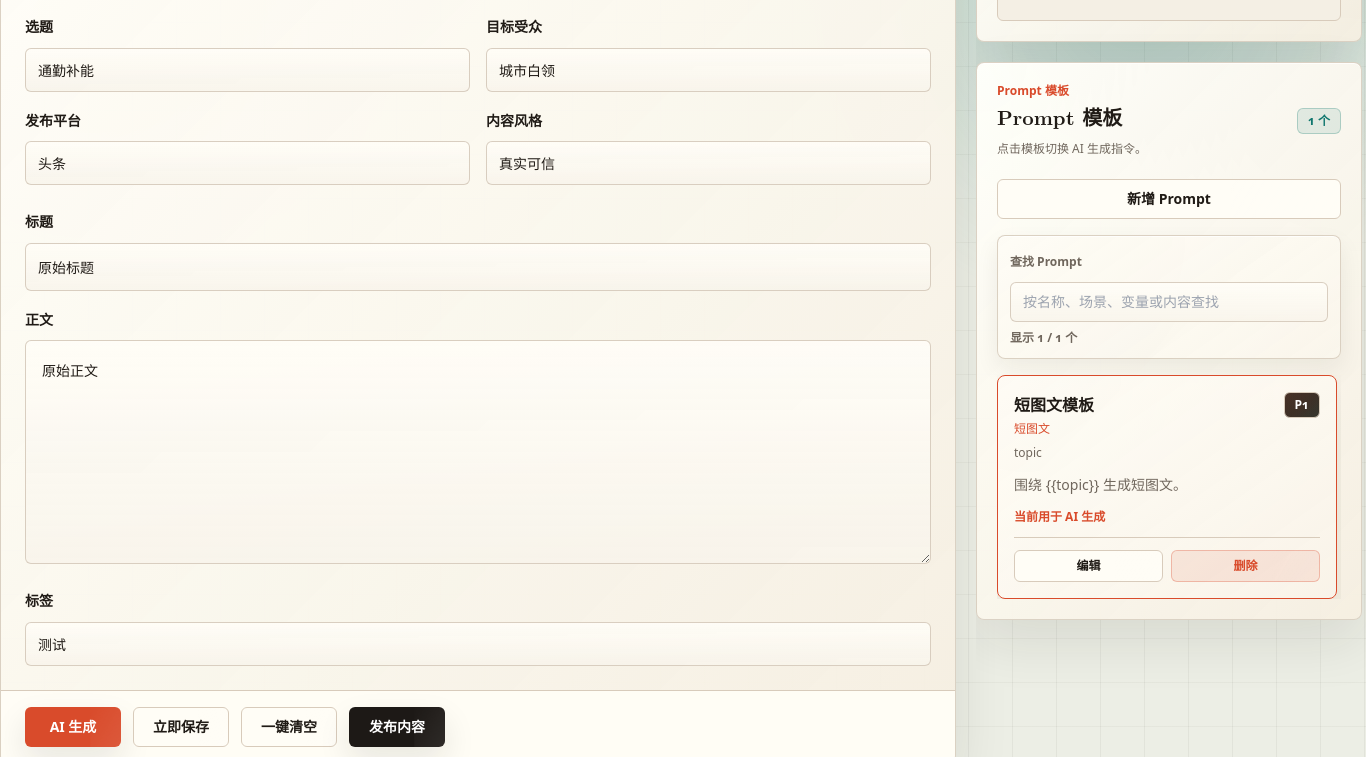
Test: creation studio › locks composer fields while an action is pending
(page scrolled)
What coordinates should you click on to do the following:
click the button "AI 生成"
I would click on:
 (73, 727)
Its box is [25,707,121,747].
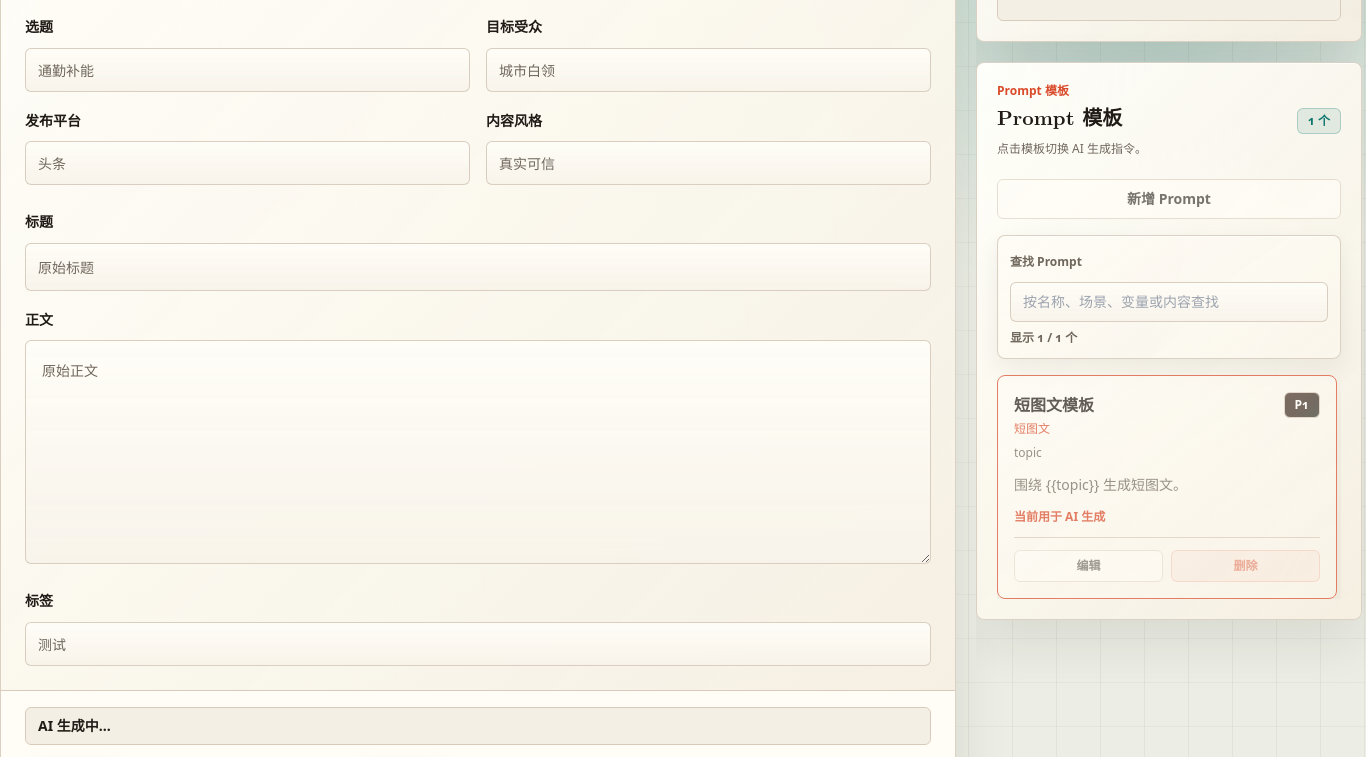
Expected: the field labelled "选题" is disabled, [25,48,470,92]
Expected: the field labelled "目标受众" is disabled, [486,48,931,92]
Expected: the field labelled "发布平台" is disabled, [25,141,470,185]
